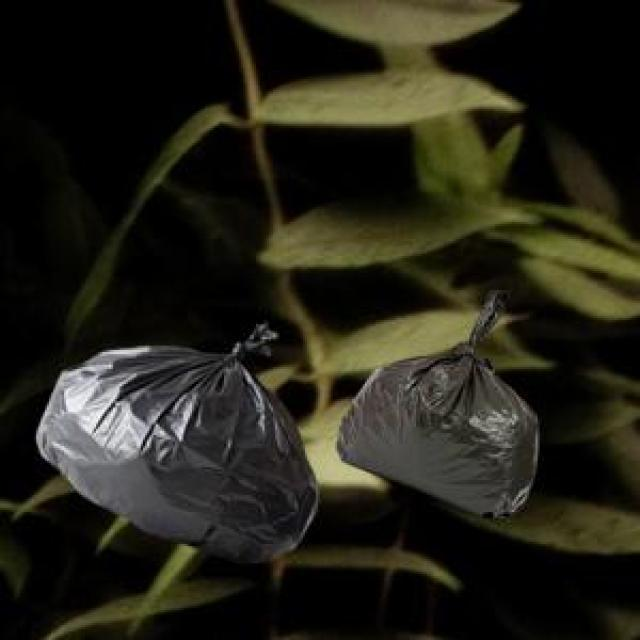miscellaneous trash: (32, 320, 314, 559), (333, 286, 533, 516)
